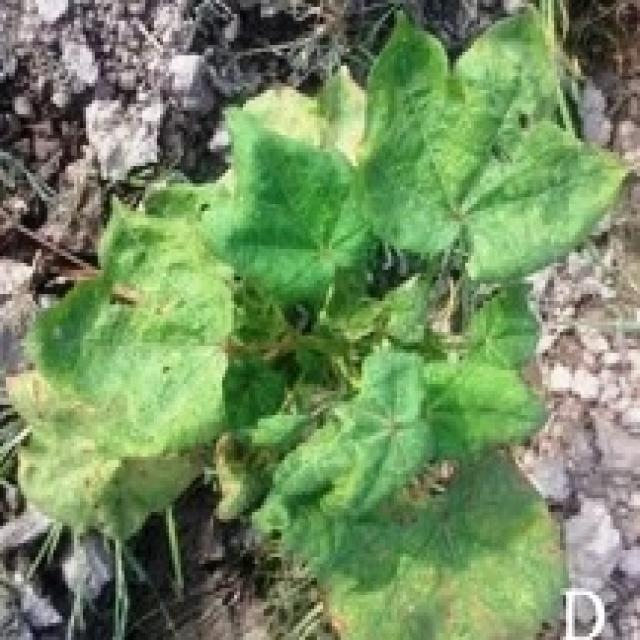Leaf Curl Virus: (180, 105, 505, 519)
